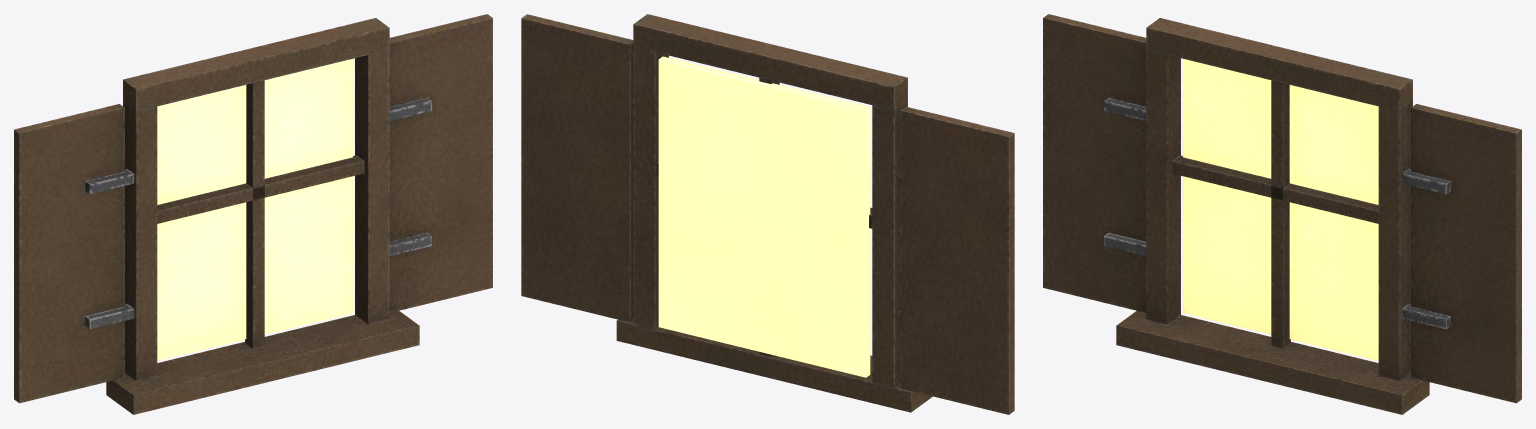
File: janela.glb
The picture shows the model from 3 angles, left to right: view 1: azimuth 30°, elevation 25°; view 2: azimuth 150°, elevation 25°; view 3: azimuth 330°, elevation 25°; orthographic projection. The views are drawn at different scales.
Parts seen in each view (by area): view 1: janela; view 2: janela; view 3: janela.
Part boxes in pixels (x1,y1,x2,y2): janela: (14, 14, 492, 414); janela: (521, 14, 1014, 414); janela: (1043, 14, 1521, 414).
Size of the model in its own units: 2.02 by 1.27 by 0.21.
1 material, 1 textured.
